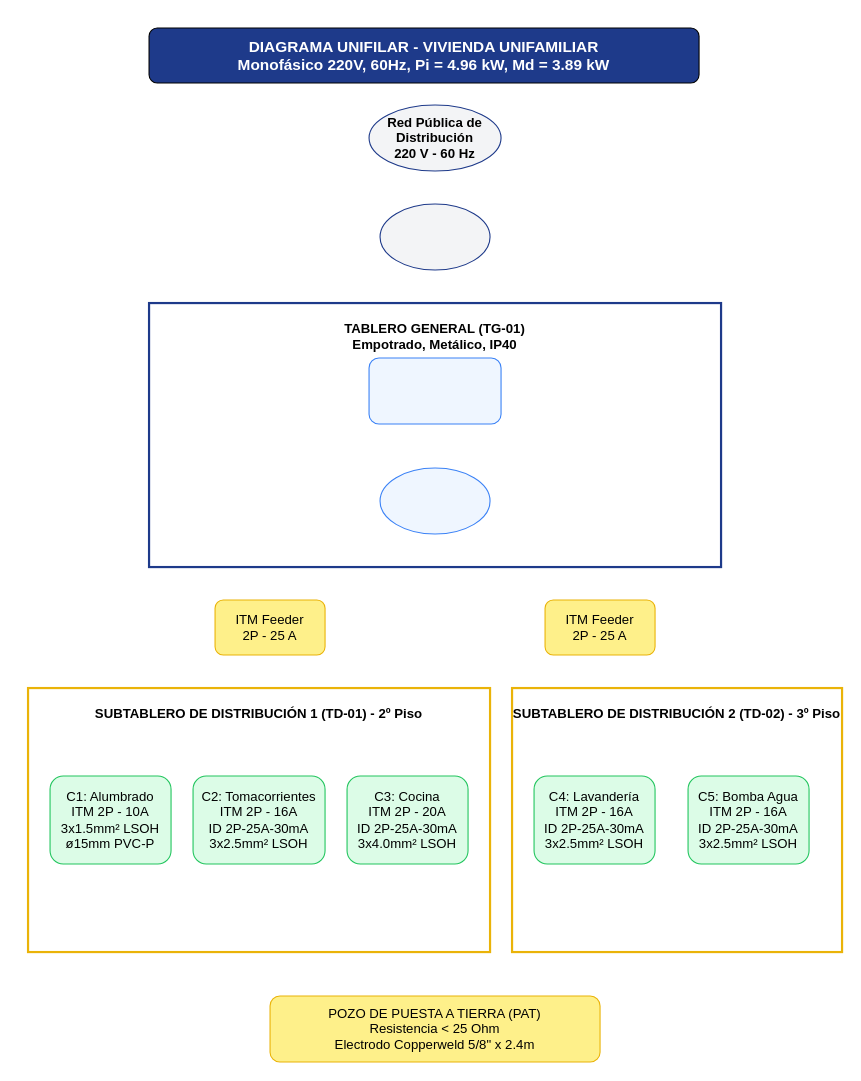
Some shapes in this 861 by 1081 pixel diagram are drawn without their labels. The centre of each missing label's shape, as x and y in pixels:
ID General 2P - 40 A 30 mA: the point at 434,500
ITM General 2P - 40 A 10 kA: the point at 434,390
Medidor KWh Monofásico: the point at 434,236
